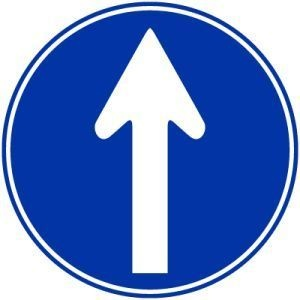Direction_sign: (3, 2, 299, 300)
